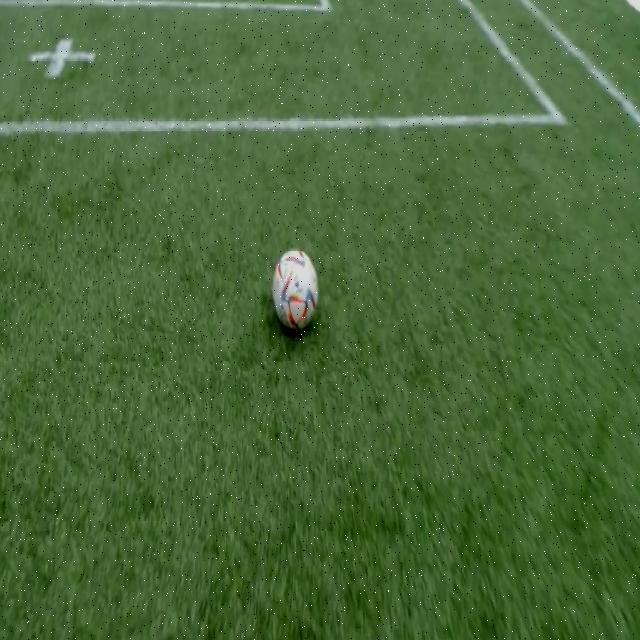ball: (273, 250, 318, 331)
